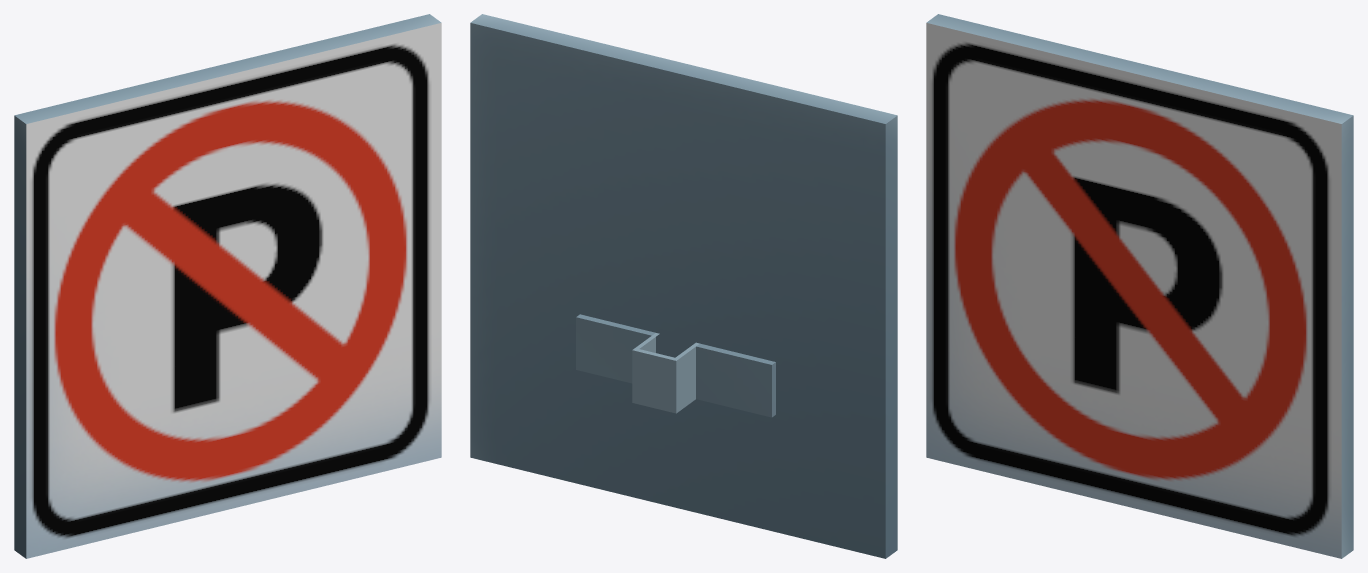
Rendered from Sign12.fbx.
3 renders of one model, left to right at view 1: azimuth 30°, elevation 25°; view 2: azimuth 150°, elevation 25°; view 3: azimuth 330°, elevation 25°, orthographic.
Visible parts, largest first — view 1: Sign12; view 2: Sign12; view 3: Sign12.
Part boxes in pixels (x1,y1,x2,y2): Sign12: [14, 14, 441, 558]; Sign12: [470, 14, 897, 558]; Sign12: [926, 14, 1353, 558].
Size of the model in its own units: 1 by 0.1489 by 1.
